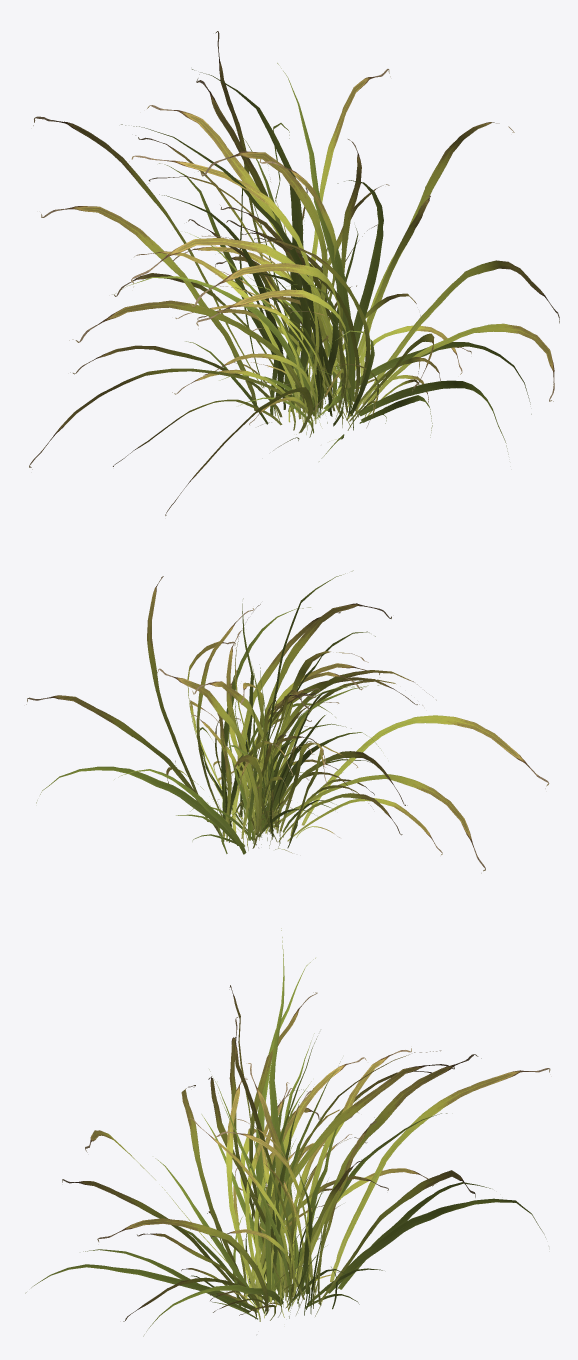
File: grass_autumn.glb
The picture shows the model from 3 angles, top to bottom: view 1: azimuth 30°, elevation 25°; view 2: azimuth 150°, elevation 25°; view 3: azimuth 270°, elevation 25°; orthographic projection. The views are drawn at different scales.
Parts seen in each view (by area): view 1: GrassAutumn3_Grass2_Mat3_0, GrassAutumn3_Grass1_Mat3_0; view 2: GrassAutumn3_Grass2_Mat3_0, GrassAutumn3_Grass1_Mat3_0; view 3: GrassAutumn3_Grass2_Mat3_0, GrassAutumn3_Grass1_Mat3_0.
Part boxes in pixels (x1,y1,x2,y2): GrassAutumn3_Grass2_Mat3_0: (29, 31, 559, 515); GrassAutumn3_Grass1_Mat3_0: (114, 63, 531, 461); GrassAutumn3_Grass2_Mat3_0: (26, 576, 549, 873); GrassAutumn3_Grass1_Mat3_0: (36, 570, 381, 854); GrassAutumn3_Grass2_Mat3_0: (62, 985, 550, 1321); GrassAutumn3_Grass1_Mat3_0: (25, 928, 545, 1336).
Bounding box in the file's own units: 0.4317 × 0.32 × 0.4747.
2 materials, 2 textured.
